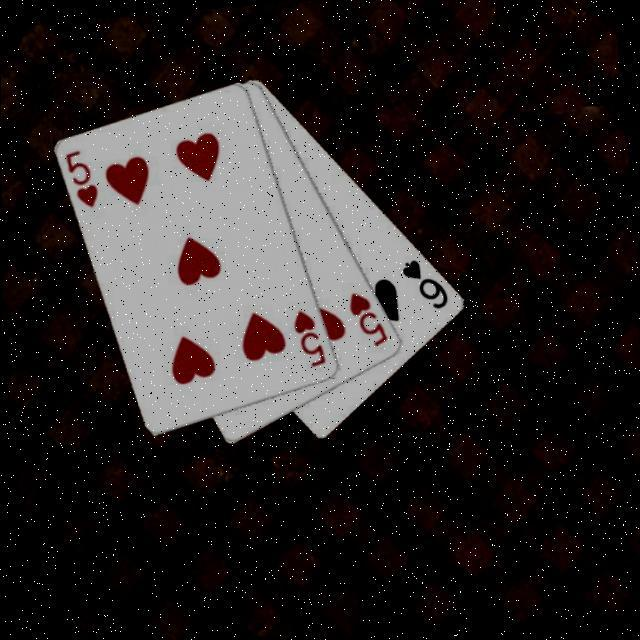5H: (343, 289, 389, 353), (59, 147, 99, 214), (287, 307, 326, 374)
6S: (395, 256, 450, 317)
